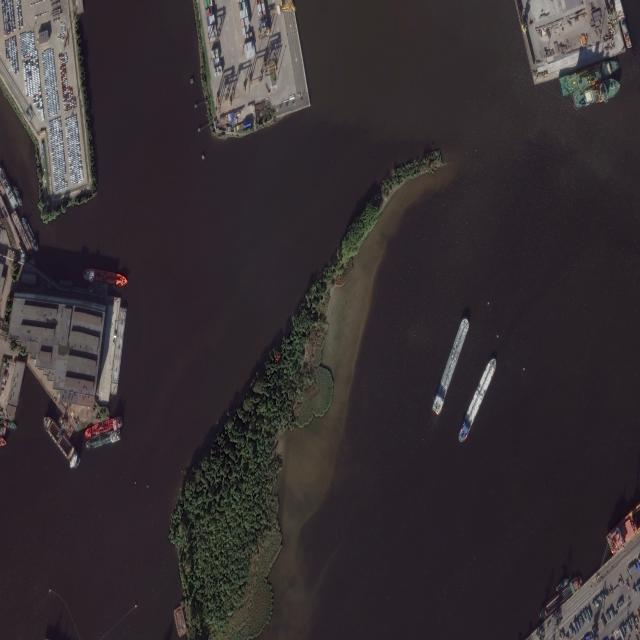ship: (432, 317, 470, 416), (458, 358, 496, 442), (558, 58, 620, 98), (44, 416, 82, 470), (538, 575, 582, 621), (571, 78, 621, 110), (84, 414, 122, 440), (82, 267, 128, 287), (85, 428, 122, 452), (22, 216, 39, 252), (12, 185, 22, 207), (556, 578, 570, 592), (1, 419, 18, 429)
